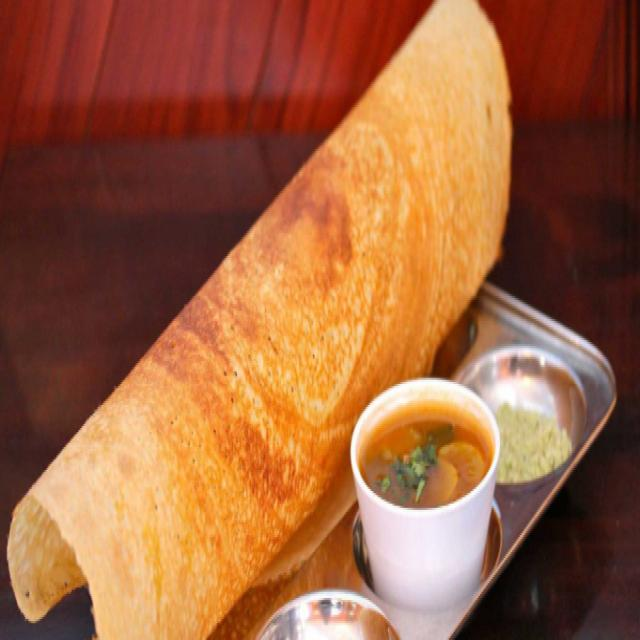DOSA: (4, 2, 513, 638)
SAMBAR: (364, 395, 490, 508)
WHITE CHUTNEY: (498, 406, 570, 483)
